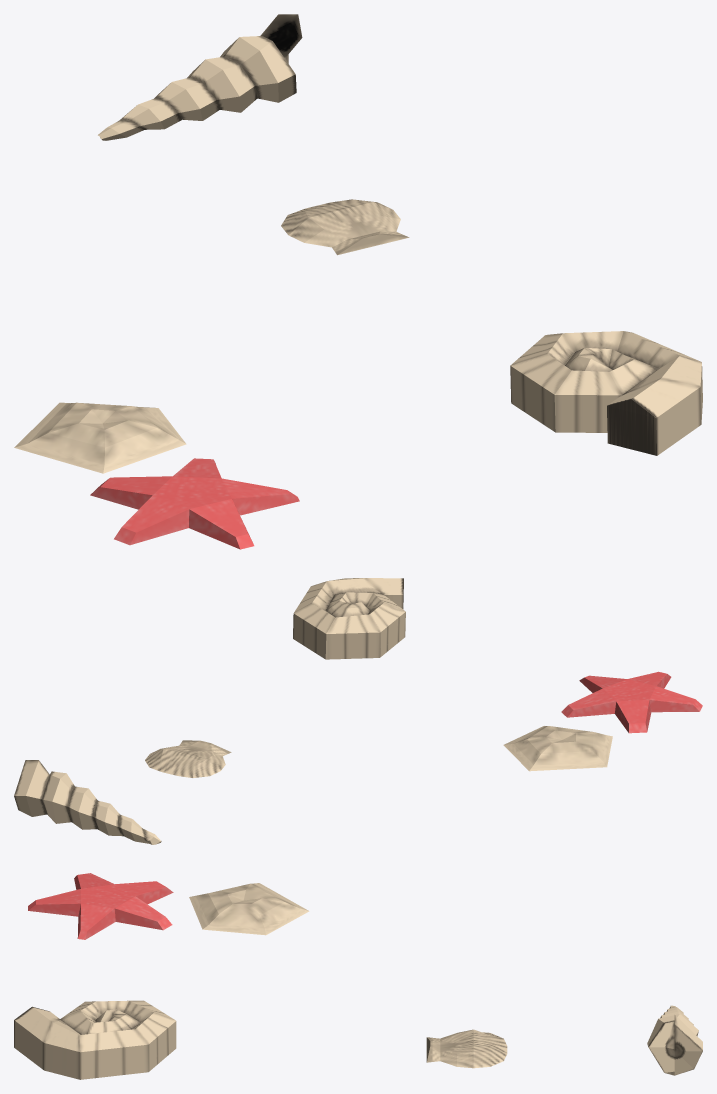
Rendered from Seashells 1.3.fbx.
The picture shows the model from 3 angles, top to bottom: view 1: azimuth 30°, elevation 25°; view 2: azimuth 150°, elevation 25°; view 3: azimuth 270°, elevation 25°; orthographic projection. The views are drawn at different scales.
Visible parts, largest first — view 1: Swirl Shell, Spiral Shell.001, StarFish, Sea Dollar, Clam Shell; view 2: Swirl Shell, Spiral Shell.001, StarFish, Sea Dollar, Clam Shell; view 3: Swirl Shell, StarFish, Sea Dollar, Spiral Shell.001, Clam Shell.
Boxes of the visible parts, left/top/right/bottom form: Swirl Shell: left=510, top=331, right=702, bottom=455; Spiral Shell.001: left=98, top=14, right=302, bottom=140; StarFish: left=90, top=458, right=299, bottom=549; Sea Dollar: left=14, top=402, right=186, bottom=473; Clam Shell: left=281, top=199, right=409, bottom=255; Swirl Shell: left=293, top=578, right=405, bottom=659; Spiral Shell.001: left=14, top=760, right=161, bottom=844; StarFish: left=561, top=671, right=702, bottom=733; Sea Dollar: left=503, top=726, right=612, bottom=771; Clam Shell: left=145, top=740, right=231, bottom=777; Swirl Shell: left=14, top=1000, right=176, bottom=1079; StarFish: left=28, top=873, right=173, bottom=939; Sea Dollar: left=189, top=883, right=309, bottom=935; Spiral Shell.001: left=647, top=1005, right=702, bottom=1075; Clam Shell: left=426, top=1029, right=507, bottom=1068.
Bounding box in the file's own units: 148 × 20.64 × 206.
